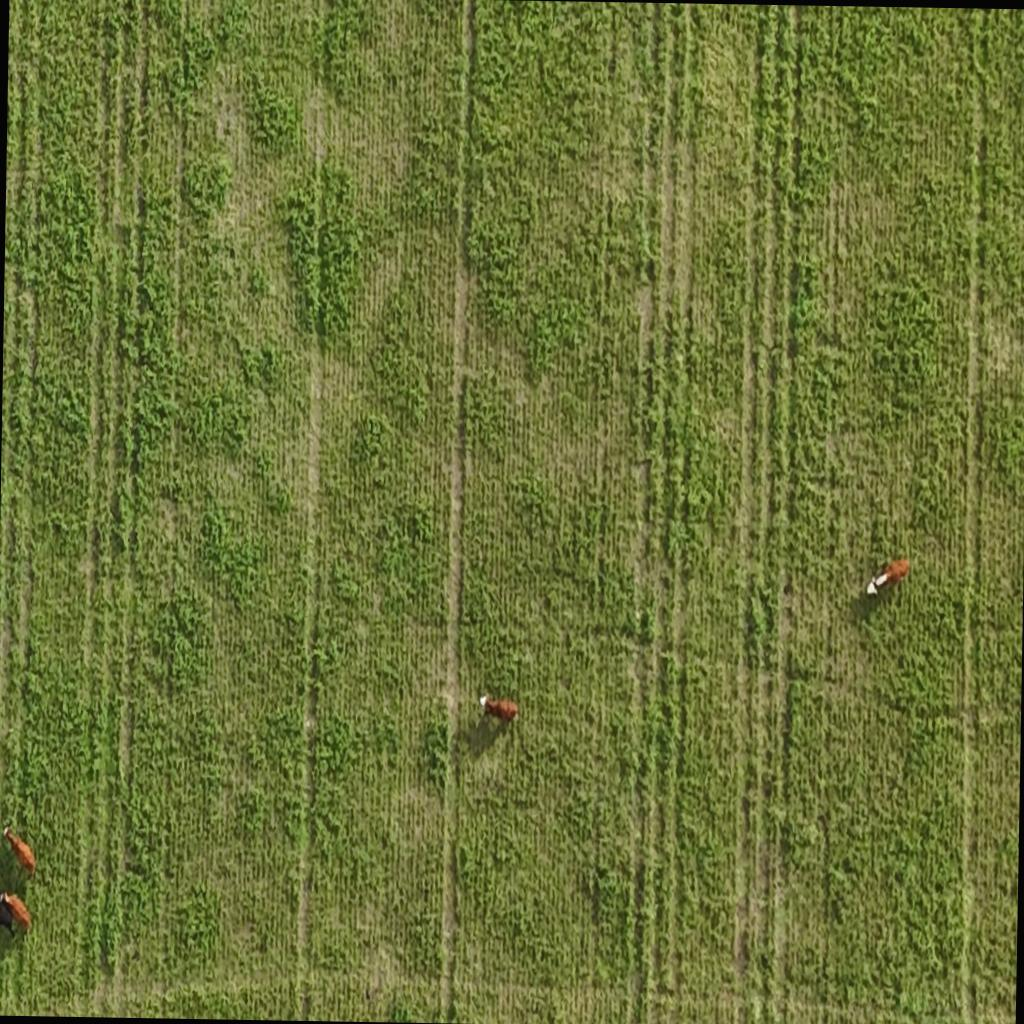cow: (862, 554, 909, 608), (477, 688, 520, 736), (4, 824, 37, 878), (0, 885, 35, 928), (0, 896, 15, 936)
